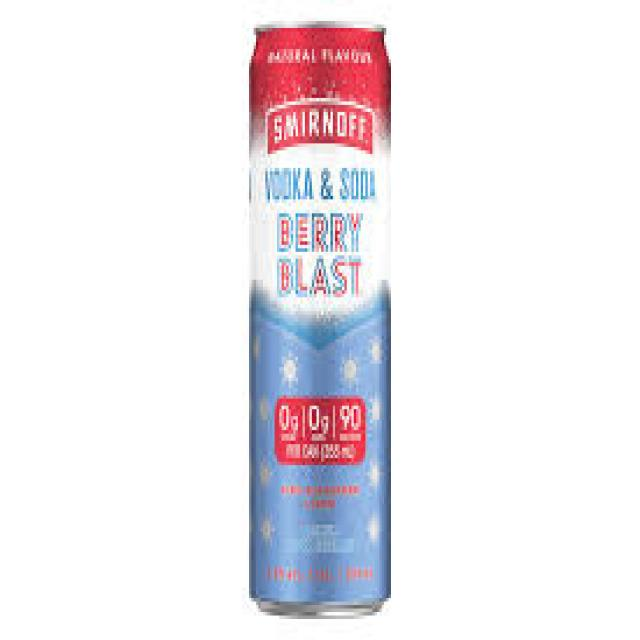Cans: (240, 14, 398, 623)
